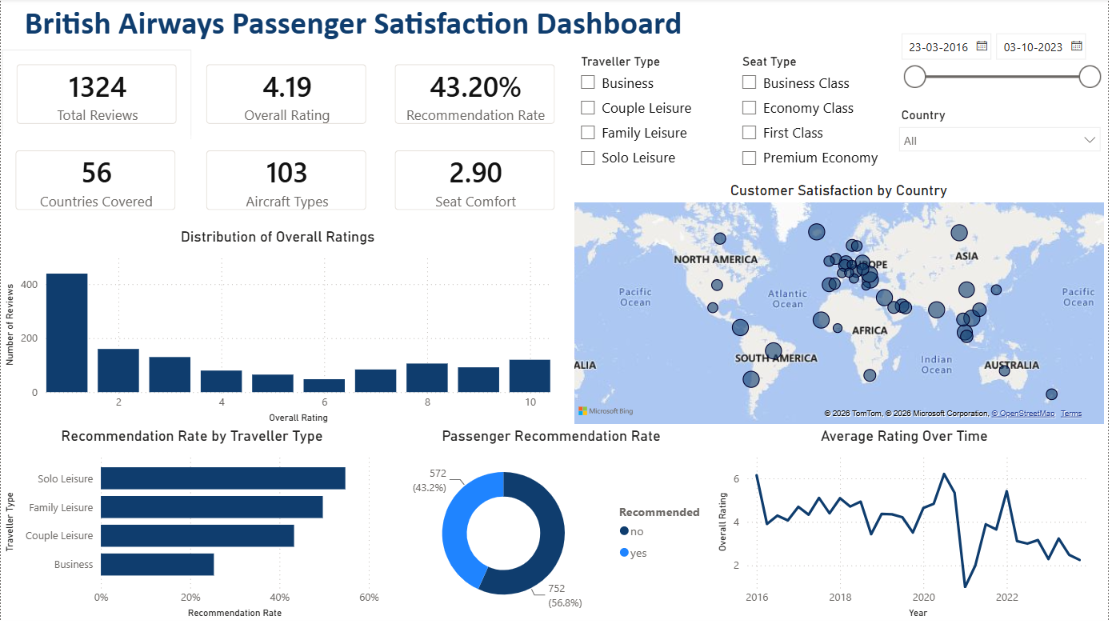

This screenshot's page, from the dashboard's own definition file:
{"tool":"powerbi","page":{"name":"Executive Overview","canvas":[1280,720],"ordinal":0},"visuals":[{"type":"cardVisual","fields":{"Data":["Measure.Total Reviews"]},"box":[1.3,59,219.1,103],"z":0},{"type":"cardVisual","fields":{"Data":["Measure.Average Rating"]},"box":[220.4,59,219.1,103.6],"z":1000},{"type":"cardVisual","fields":{"Data":["Measure.Recommendation %"]},"box":[438.2,59,219.1,103.6],"z":2000},{"type":"cardVisual","fields":{"Data":["Measure.Average Seat Comfort"]},"box":[438.2,158.7,219.1,103.6],"z":3000},{"type":"cardVisual","fields":{"Data":["Measure.Total Countries"]},"box":[0,158.7,219.1,103.6],"z":4000},{"type":"cardVisual","fields":{"Data":["Measure.Total Aircraft"]},"box":[220.4,158.7,219.1,103.6],"z":5000},{"type":"map","title":"Customer Satisfaction by Country","fields":{"Category":["Countries.Country"],"Size":["Measure.Recommendation Rate"]},"box":[657.2,211.2,621.8,284.7],"z":6000},{"type":"donutChart","title":"Passenger Recommendation Rate","fields":{"Category":["ba_reviews.Recommended"],"Y":["CountNonNull(ba_reviews.Recommended)"]},"box":[442,495.8,388.3,224.4],"z":7000},{"type":"clusteredBarChart","title":"Recommendation Rate by Traveller Type","fields":{"Category":["ba_reviews.Traveller Type"],"Y":["Measure.Recommendation Rate"]},"box":[0,495.8,442,224.4],"z":8000},{"type":"columnChart","title":"Distribution of Overall Ratings","fields":{"Category":["ba_reviews.Overall Rating"],"Y":["Measure.Total Reviews"]},"box":[0,266.3,640.2,229.6],"z":9000},{"type":"lineChart","title":"Average Rating Over Time","fields":{"Y":["Measure.Average Rating"],"Category":["ba_reviews.Date.Variation.Date Hierarchy.Year","ba_reviews.Date.Variation.Date Hierarchy.Quarter"]},"box":[823.6,495.8,440.7,224.4],"z":10000},{"type":"slicer","fields":{"Values":["ba_reviews.Country"]},"box":[1027.2,120.7,253.2,82.6],"z":11000},{"type":"slicer","fields":{"Values":["ba_reviews.Traveller Type"]},"box":[657.2,59,186.3,152.2],"z":12000},{"type":"slicer","fields":{"Values":["ba_reviews.Seat Type"]},"box":[843.5,59,186.3,152.2],"z":13000},{"type":"slicer","fields":{"Values":["ba_reviews.Date"]},"box":[1027.2,30.2,251.9,90.5],"z":14000},{"type":"textbox","box":[0,0,814.7,59],"z":15000}]}

Visuals, with their boxes in screenshot pixels (x1, y1, x2, y2), scaled from the page's 1280x720 canvas onto the 1109x621 screenshot:
cardVisual - Measure.Total Reviews: box(1, 51, 191, 140)
cardVisual - Measure.Average Rating: box(191, 51, 381, 140)
cardVisual - Measure.Recommendation %: box(380, 51, 569, 140)
cardVisual - Measure.Average Seat Comfort: box(380, 137, 569, 226)
cardVisual - Measure.Total Countries: box(0, 137, 190, 226)
cardVisual - Measure.Total Aircraft: box(191, 137, 381, 226)
"Customer Satisfaction by Country" map: box(569, 182, 1108, 428)
"Passenger Recommendation Rate" donutChart: box(383, 428, 719, 620)
"Recommendation Rate by Traveller Type" clusteredBarChart: box(0, 428, 383, 620)
"Distribution of Overall Ratings" columnChart: box(0, 230, 555, 428)
"Average Rating Over Time" lineChart: box(714, 428, 1095, 620)
slicer - ba_reviews.Country: box(890, 104, 1108, 175)
slicer - ba_reviews.Traveller Type: box(569, 51, 731, 182)
slicer - ba_reviews.Seat Type: box(731, 51, 892, 182)
slicer - ba_reviews.Date: box(890, 26, 1108, 104)
textbox: box(0, 0, 706, 51)
